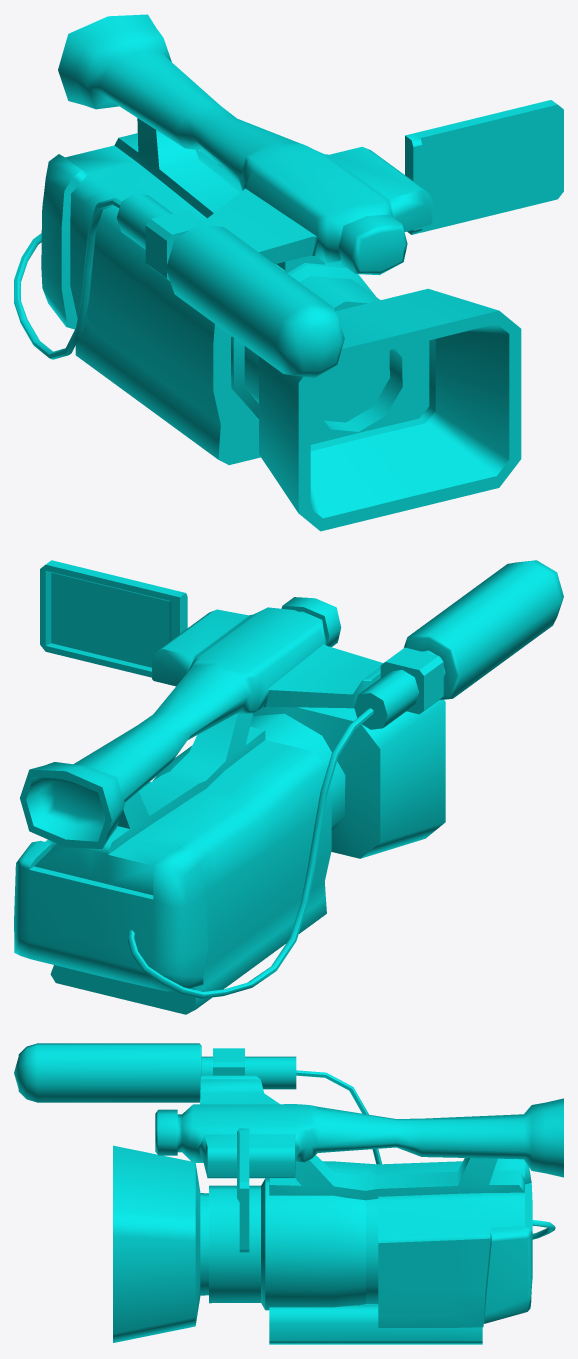
The model's file is P_0168_Camera.fbx.
3 renders of one model, top to bottom at view 1: azimuth 30°, elevation 25°; view 2: azimuth 150°, elevation 25°; view 3: azimuth 270°, elevation 25°, orthographic. The views are drawn at different scales.
Visible parts, largest first — view 1: Cam_06, Cam_03, Cam_08, Cam_07, Cam_01, Cam_04, Cam_02, Cam_05; view 2: Cam_03, Cam_08, Cam_06, Cam_07, Cam_01, Cam_02, Cam_04, Cam_05; view 3: Cam_03, Cam_08, Cam_04, Cam_06, Cam_07, Cam_01, Cam_02, Cam_05.
Part boxes in pixels (<box>): Cam_06: <box>259,288,521,531</box>; Cam_03: <box>41,118,324,464</box>; Cam_08: <box>58,14,432,275</box>; Cam_07: <box>116,193,344,377</box>; Cam_01: <box>405,100,563,234</box>; Cam_04: <box>231,263,389,422</box>; Cam_02: <box>14,198,121,359</box>; Cam_05: <box>145,210,208,280</box>; Cam_03: <box>14,713,331,1014</box>; Cam_08: <box>20,597,383,848</box>; Cam_06: <box>252,700,445,858</box>; Cam_07: <box>354,560,563,729</box>; Cam_01: <box>40,560,187,677</box>; Cam_02: <box>128,708,373,998</box>; Cam_04: <box>153,713,345,831</box>; Cam_05: <box>380,647,443,714</box>; Cam_03: <box>269,1155,532,1344</box>; Cam_08: <box>155,1075,563,1178</box>; Cam_04: <box>209,1178,378,1310</box>; Cam_06: <box>113,1145,208,1342</box>; Cam_07: <box>14,1043,296,1102</box>; Cam_01: <box>237,1128,249,1252</box>; Cam_02: <box>296,1070,555,1239</box>; Cam_05: <box>213,1048,244,1075</box>.
Size of the model in its own units: 25.44 by 17.16 by 38.18.
